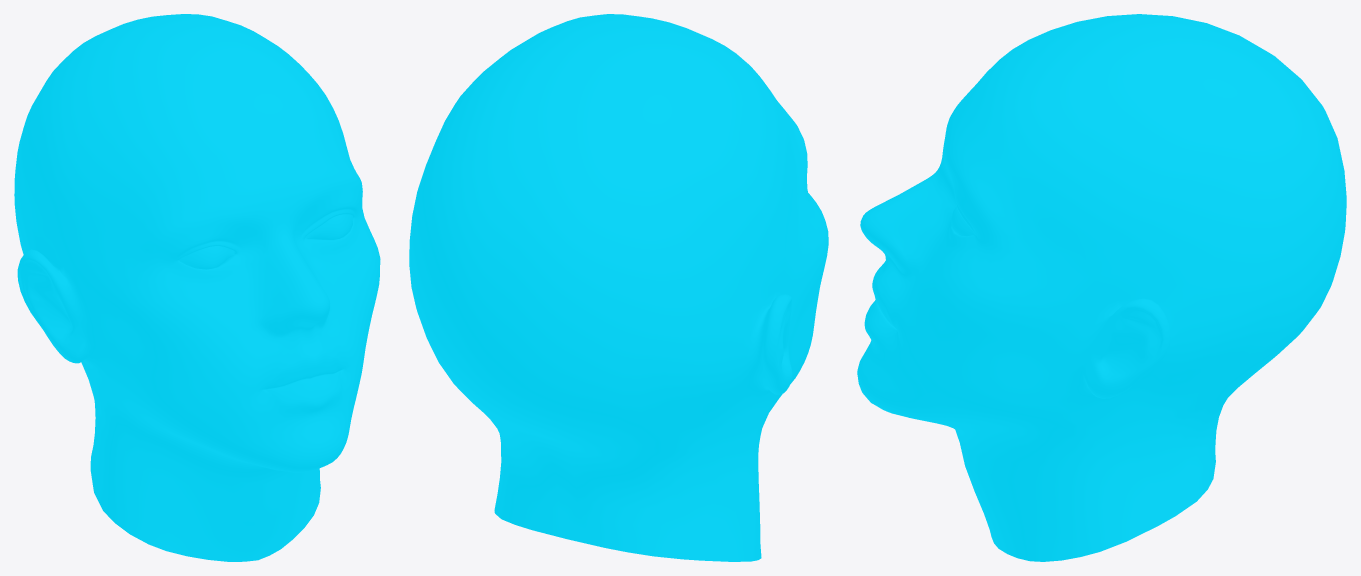
Rendered from gideon.glb.
3 views of the same model, side by side, from view 1: azimuth 30°, elevation 25°; view 2: azimuth 150°, elevation 25°; view 3: azimuth 270°, elevation 25° (orthographic). The views are drawn at different scales.
Parts seen in each view (by area): view 1: FaceGen; view 2: FaceGen; view 3: FaceGen.
Part boxes in pixels (box(x1,y1,x2,y2)): FaceGen: box(14, 14, 380, 561); FaceGen: box(409, 14, 828, 561); FaceGen: box(857, 14, 1346, 561).
Size of the model in its own units: 488 by 701 by 611.
